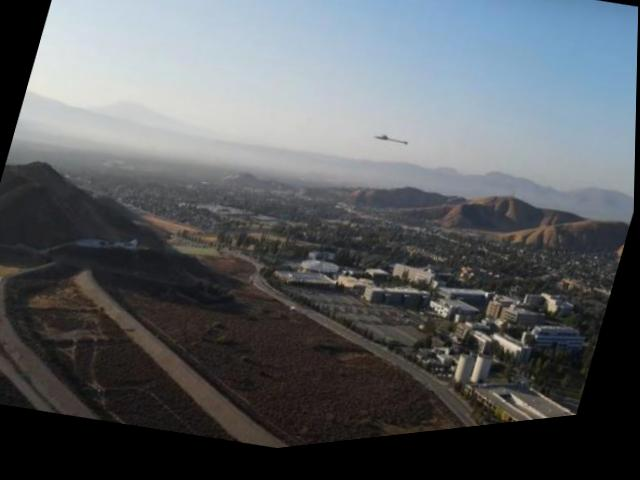iha: (372, 135, 413, 160)
